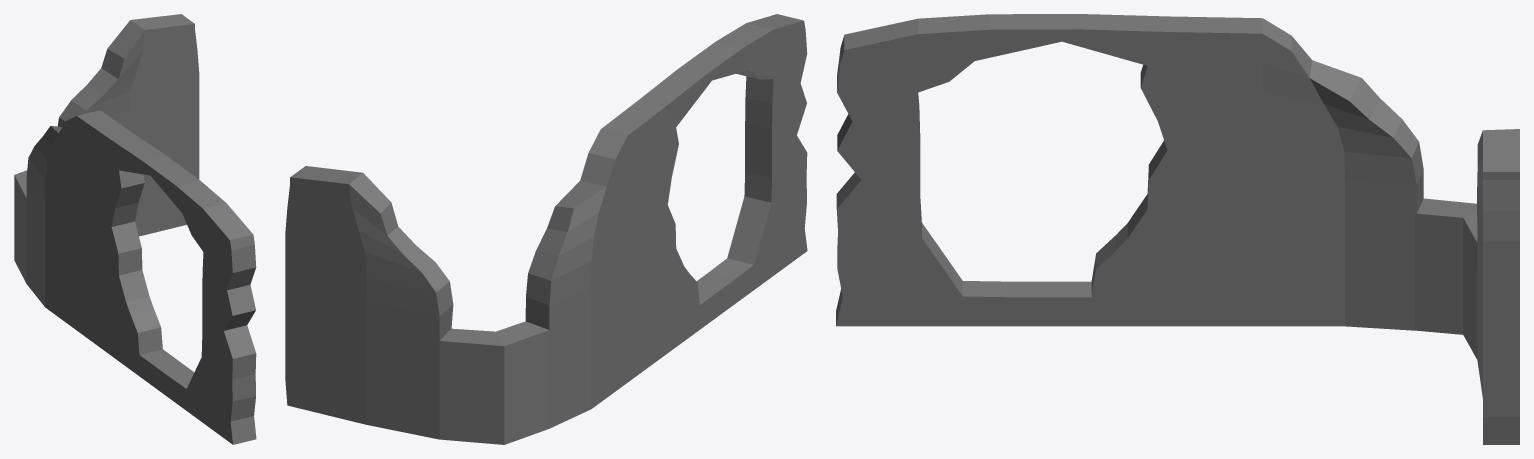
File: Ruins 1.fbx
3 views of the same model, side by side, from view 1: azimuth 30°, elevation 25°; view 2: azimuth 150°, elevation 25°; view 3: azimuth 270°, elevation 25° (orthographic). The views are drawn at different scales.
Visible parts, largest first — view 1: Ruins 1; view 2: Ruins 1; view 3: Ruins 1.
Boxes of the visible parts, box(x1,y1,x2,y2) form: Ruins 1: box(14, 14, 256, 444); Ruins 1: box(285, 14, 807, 444); Ruins 1: box(836, 14, 1519, 444).
Bounding box in the file's own units: 26.02 × 26.64 × 55.59.
